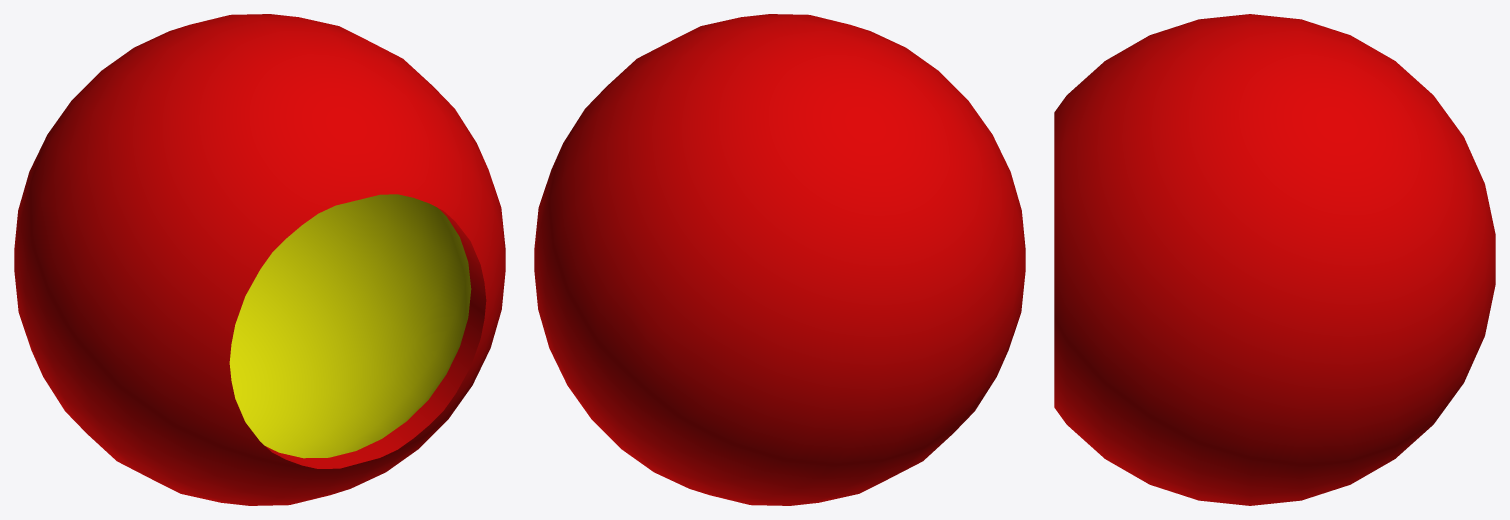
File: hollow.glb
3 renders of one model, left to right at view 1: azimuth 30°, elevation 25°; view 2: azimuth 150°, elevation 25°; view 3: azimuth 270°, elevation 25°, orthographic.
Visible parts, largest first — view 1: outside, inside; view 2: outside; view 3: outside.
Part boxes in pixels (bbox=[...]): outside: bbox=[14, 14, 505, 505]; inside: bbox=[229, 194, 471, 458]; outside: bbox=[534, 14, 1025, 505]; outside: bbox=[1054, 14, 1495, 505].
Bounding box in the file's own units: 20 × 19.89 × 17.88.
